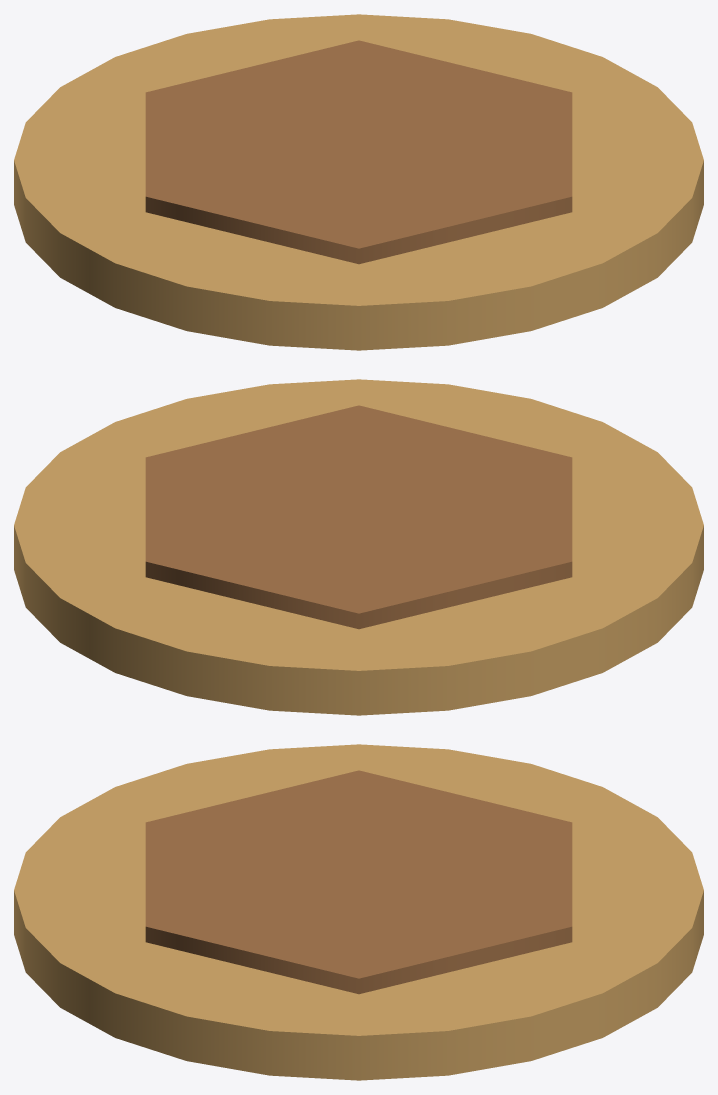
Rendered from coin.glb.
The picture shows the model from 3 angles, top to bottom: view 1: azimuth 30°, elevation 25°; view 2: azimuth 150°, elevation 25°; view 3: azimuth 270°, elevation 25°; orthographic projection.
Visible parts, largest first — view 1: prop_coin; view 2: prop_coin; view 3: prop_coin.
Boxes of the visible parts, <box> form: prop_coin: <box>14,14,703,350</box>; prop_coin: <box>14,379,703,715</box>; prop_coin: <box>14,744,703,1080</box>.
Size of the model in its own units: 0.028 by 0.0027 by 0.028.
